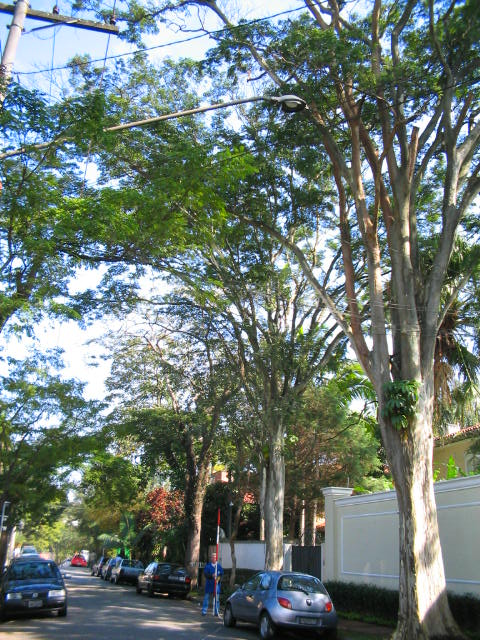stem: (361, 433, 472, 639)
stick: (210, 506, 223, 615)
tree: (69, 95, 358, 618)
